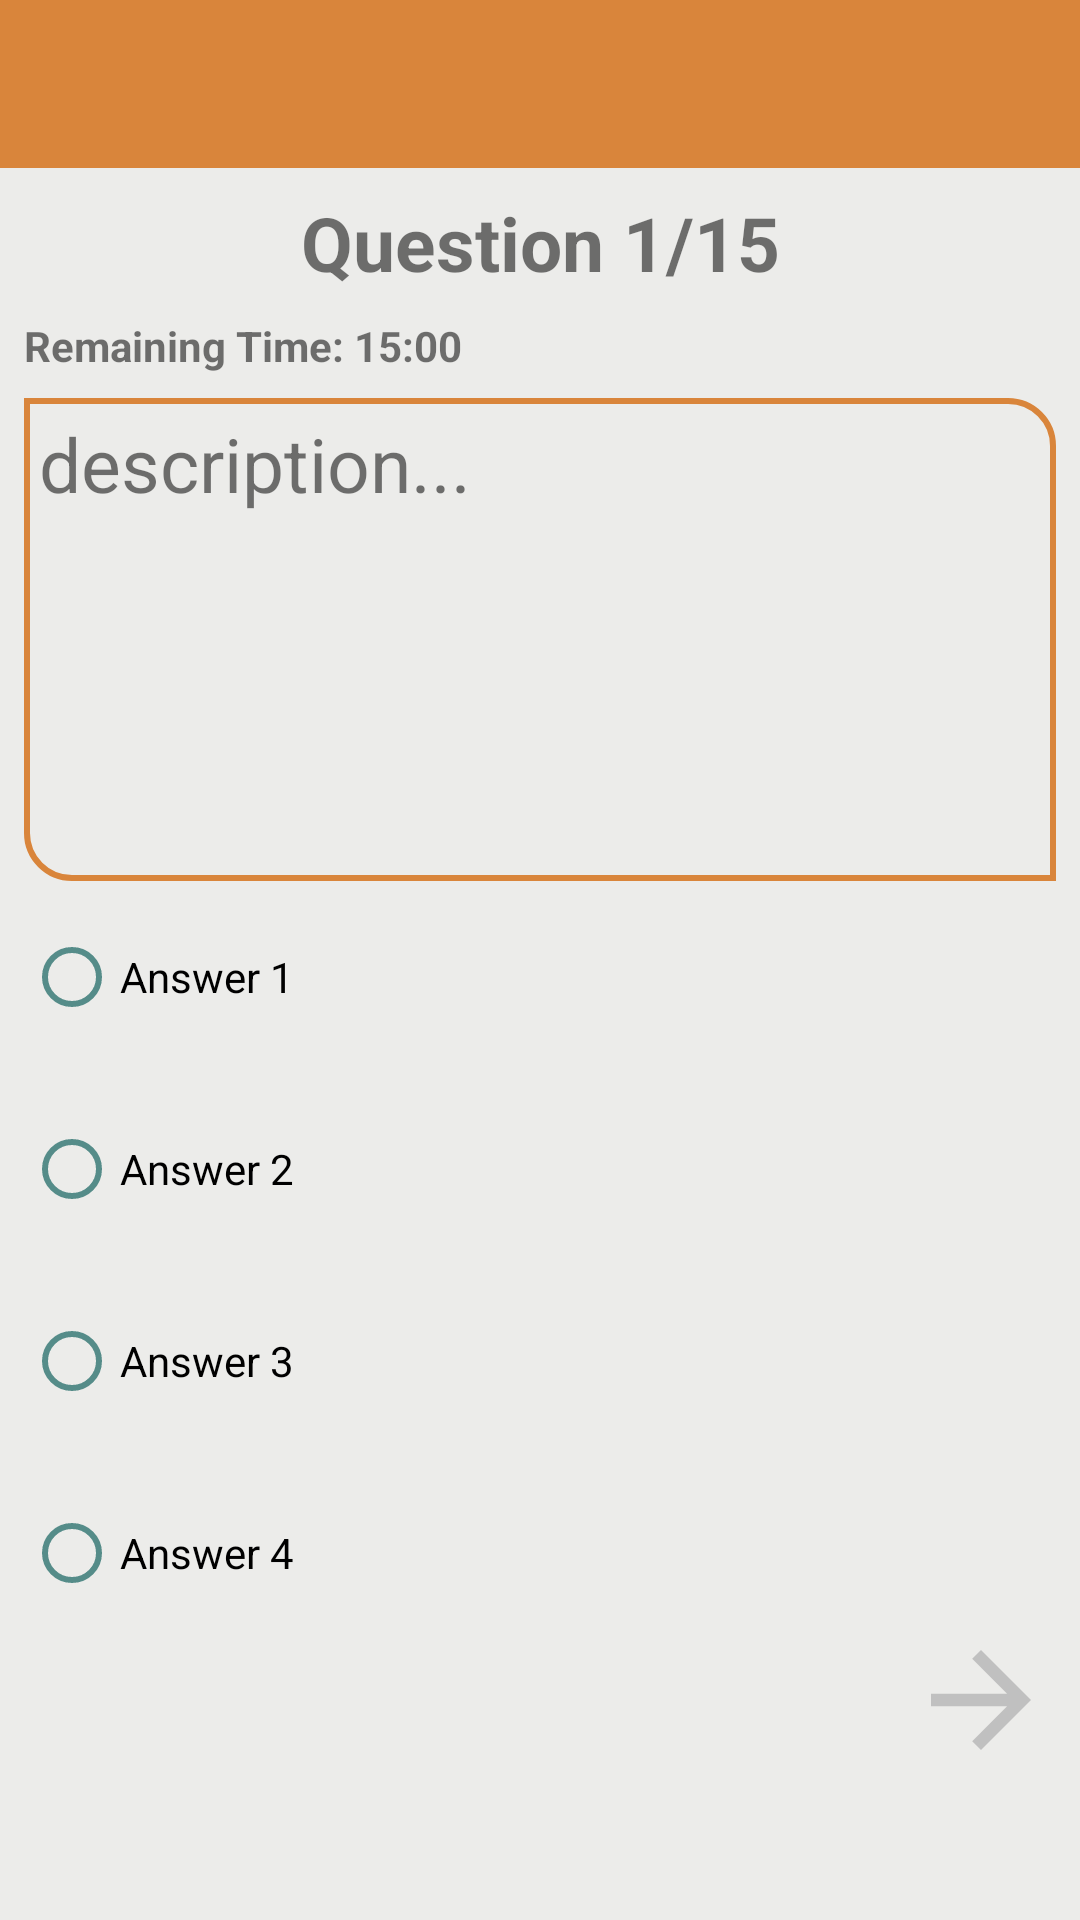

Named icons in this screenshot (1080 x 1920) and their bounding boxes, (x1, y1, x2, y2):
next question: (931, 1651, 1030, 1749)
